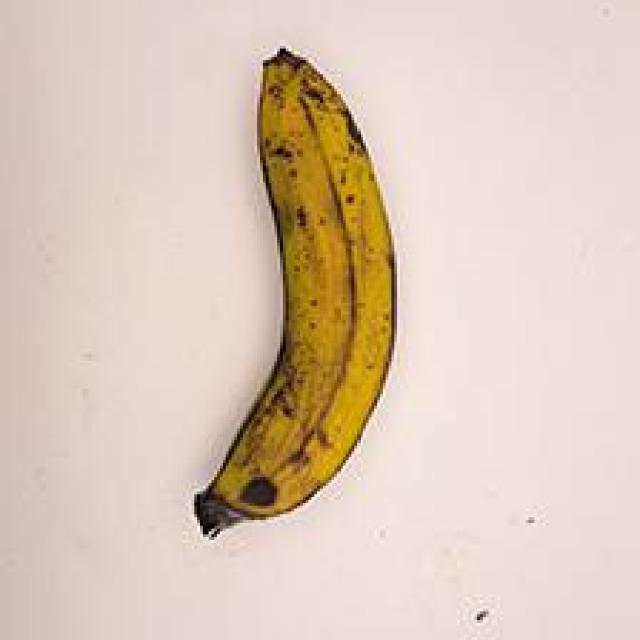Overripe: (126, 29, 457, 567)
